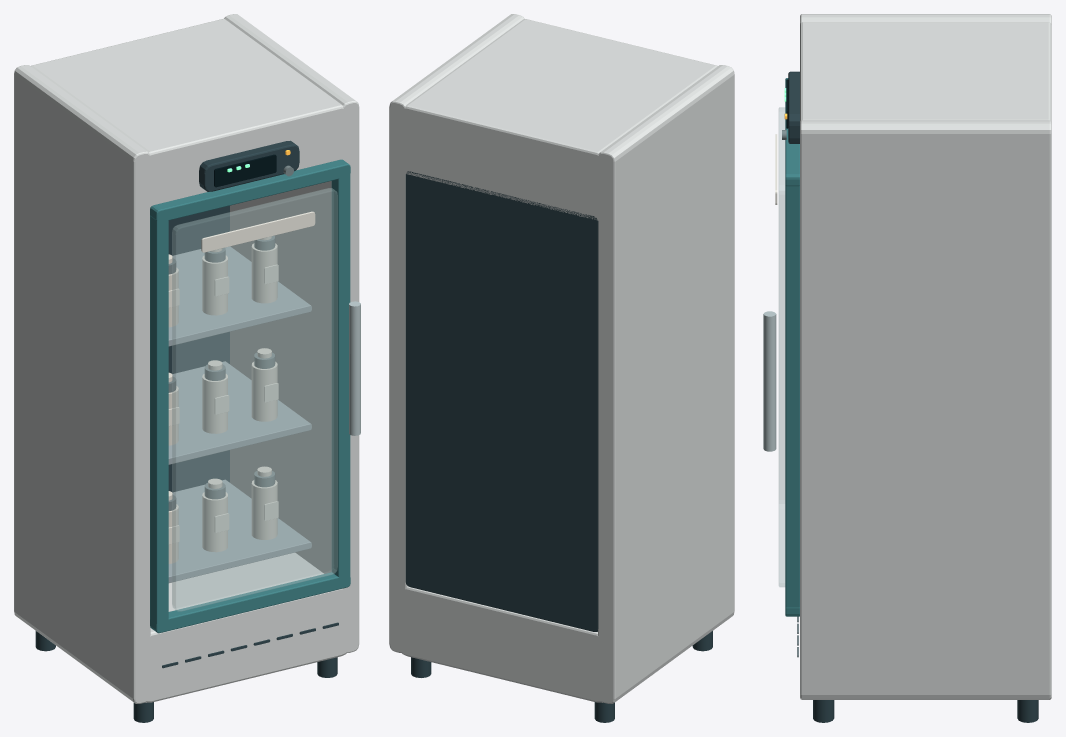
File: milk-refrigerator.glb
The picture shows the model from 3 angles, left to right: view 1: azimuth 30°, elevation 25°; view 2: azimuth 150°, elevation 25°; view 3: azimuth 270°, elevation 25°; orthographic projection. The views are drawn at different scales.
Visible parts, largest first — view 1: milk-refrigerator-batch (×7), glazed-door, milk-refrigerator; view 2: milk-refrigerator-batch (×2); view 3: milk-refrigerator-batch (×3), glazed-door, milk-refrigerator.
Boxes of the visible parts, bbox=[...] form: milk-refrigerator-batch (×7): bbox=[14, 14, 359, 722]; glazed-door: bbox=[172, 188, 337, 611]; milk-refrigerator: bbox=[214, 150, 360, 435]; milk-refrigerator-batch (×2): bbox=[389, 14, 734, 722]; milk-refrigerator-batch (×3): bbox=[785, 14, 1051, 722]; glazed-door: bbox=[779, 107, 784, 586]; milk-refrigerator: bbox=[763, 79, 788, 451].
Size of the model in its own units: 0.64 by 1.56 by 0.676.
